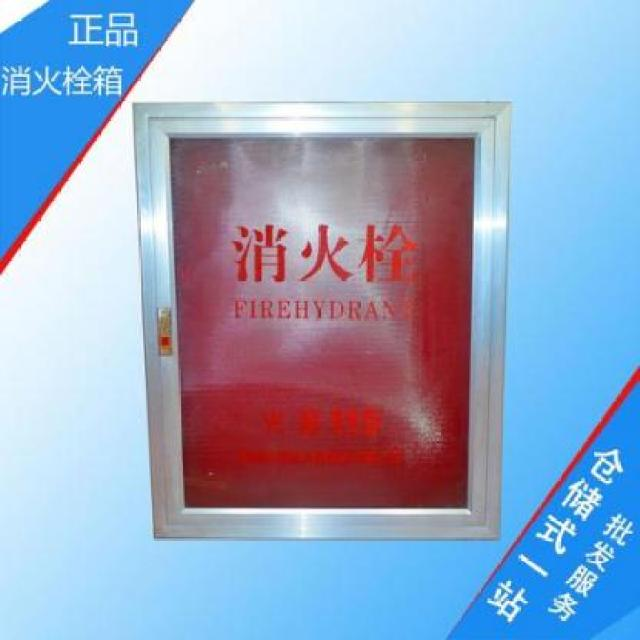firehydrant: (128, 97, 515, 544)
